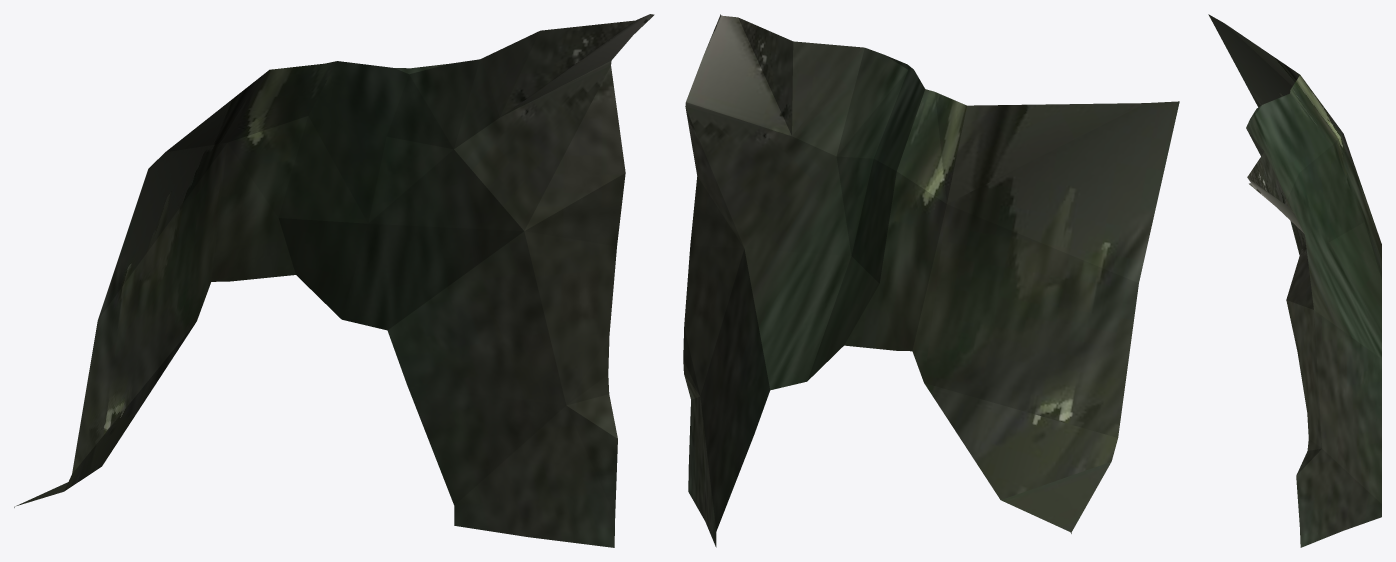
The picture shows the model from 3 angles, left to right: view 1: azimuth 30°, elevation 25°; view 2: azimuth 150°, elevation 25°; view 3: azimuth 270°, elevation 25°; orthographic projection. The views are drawn at different scales.
Size of the model in its own units: 2.95 by 2.95 by 1.28.
Materials: 2 (2 with a texture image).
